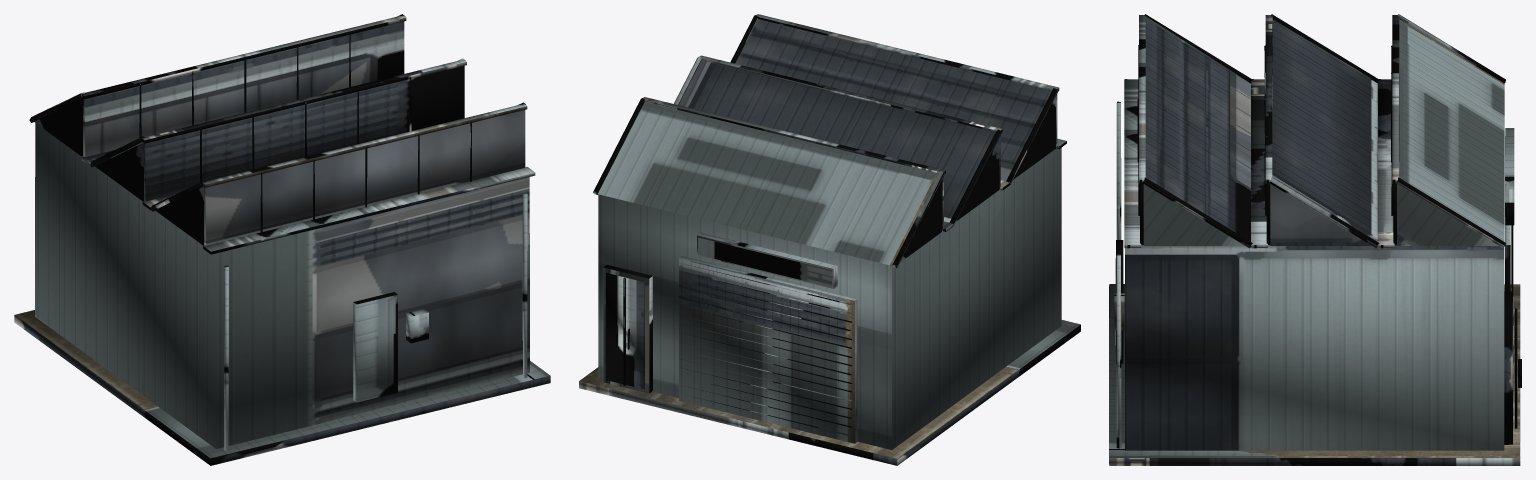
Rendered from factory_003.lod1.obj.
3 views of the same model, side by side, from view 1: azimuth 30°, elevation 25°; view 2: azimuth 150°, elevation 25°; view 3: azimuth 270°, elevation 25° (orthographic). The views are drawn at different scales.
Visible parts, largest first — view 1: factory_003; view 2: factory_003; view 3: factory_003.
Boxes of the visible parts, bbox=[...] form: factory_003: bbox=[14, 14, 550, 465]; factory_003: bbox=[579, 14, 1080, 465]; factory_003: bbox=[1109, 14, 1521, 465].
Size of the model in its own units: 6.5 by 4.94 by 6.53.
Materials: 1 (1 with a texture image).
